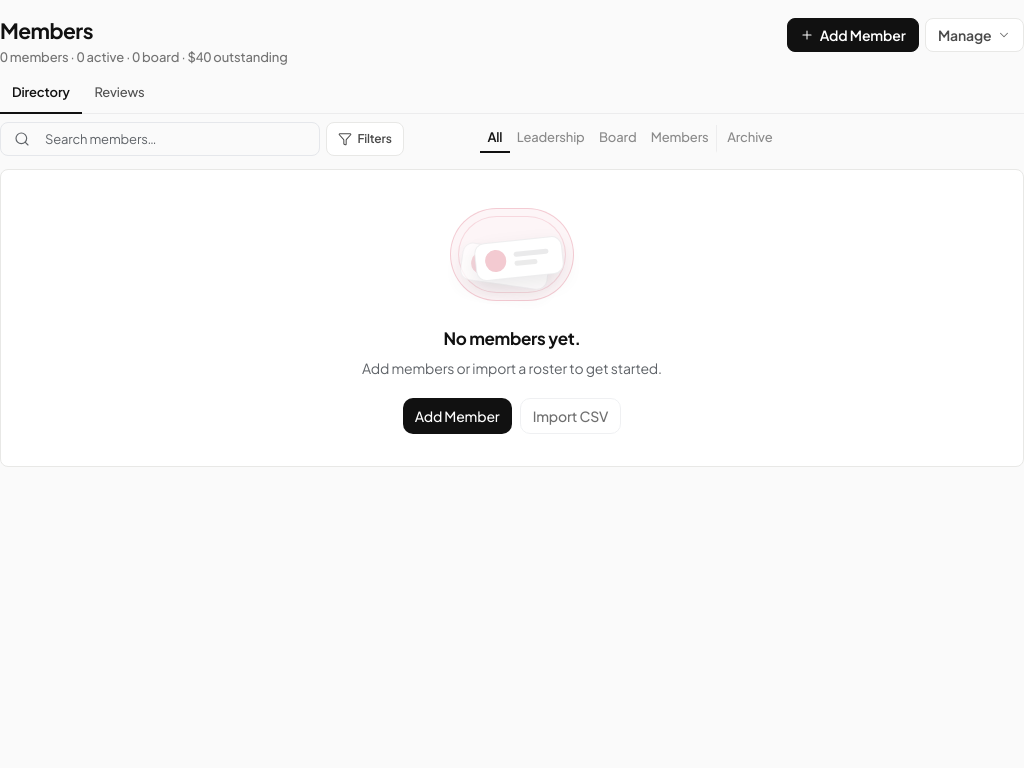
Scenario: MembersPage › opens the Add Member drawer from the header
The width and height of the screenshot is (1024, 768).
Click the 1st button "Add Member". click: coordinates (853, 35)
box: top-left (787, 18), bottom-right (919, 52)
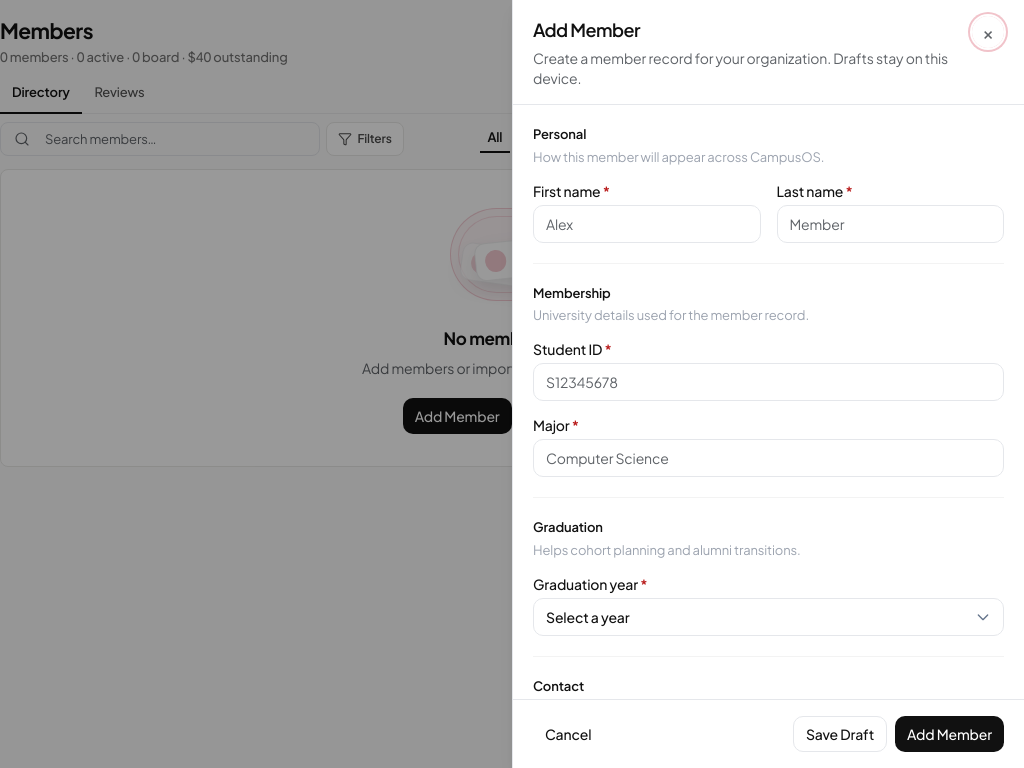
Result: the dialog "Add Member" is shown at top-left (512, 0), bottom-right (1023, 767)
